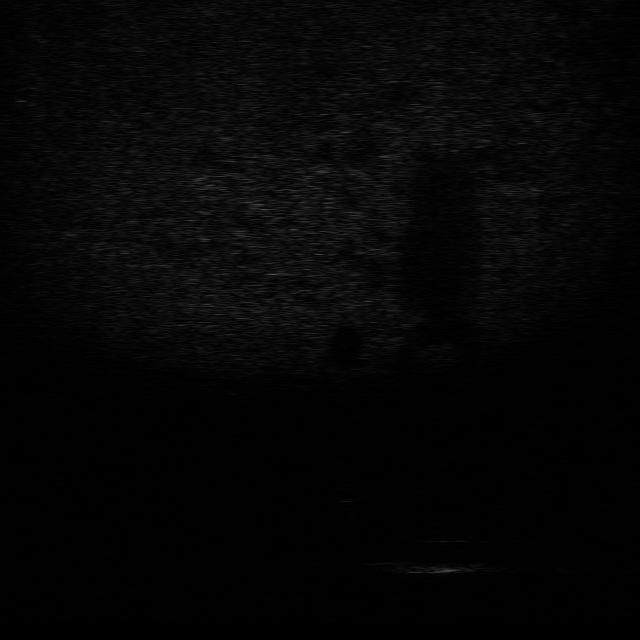ball: (328, 480, 370, 506)
metal bucket: (377, 552, 485, 578)
tyre: (404, 521, 478, 548)
